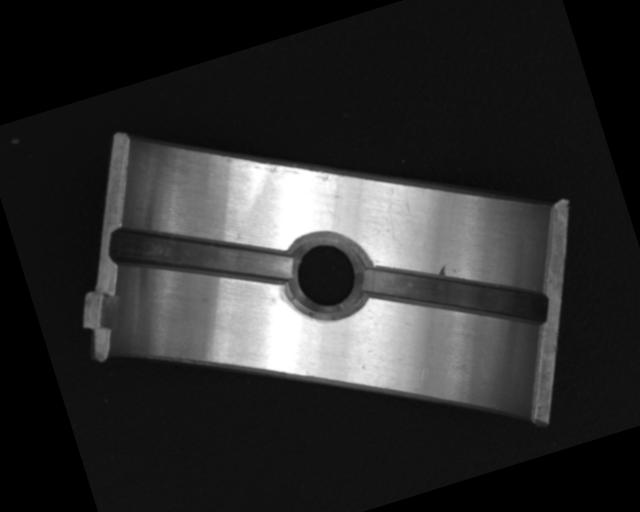bruise: (433, 262, 449, 278)
gap: (360, 219, 551, 369), (105, 182, 297, 327)
hole: (278, 224, 375, 325)
